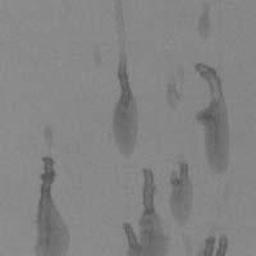Oil spot: (122, 151, 196, 256), (110, 0, 140, 161), (193, 60, 232, 179), (29, 154, 72, 256), (179, 221, 230, 256), (165, 60, 187, 113), (195, 1, 212, 45), (44, 123, 55, 150), (92, 49, 104, 70)
